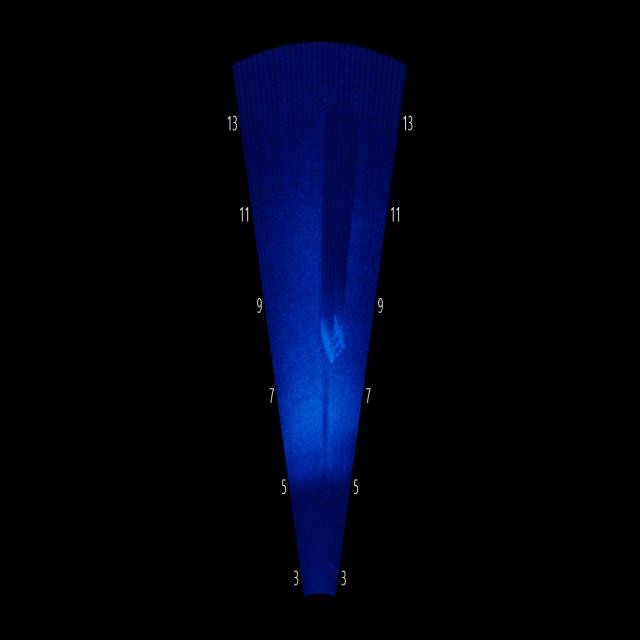square: (319, 306, 353, 386)
